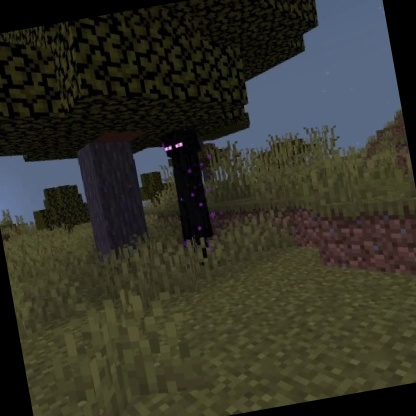enderman: (159, 123, 223, 271)
